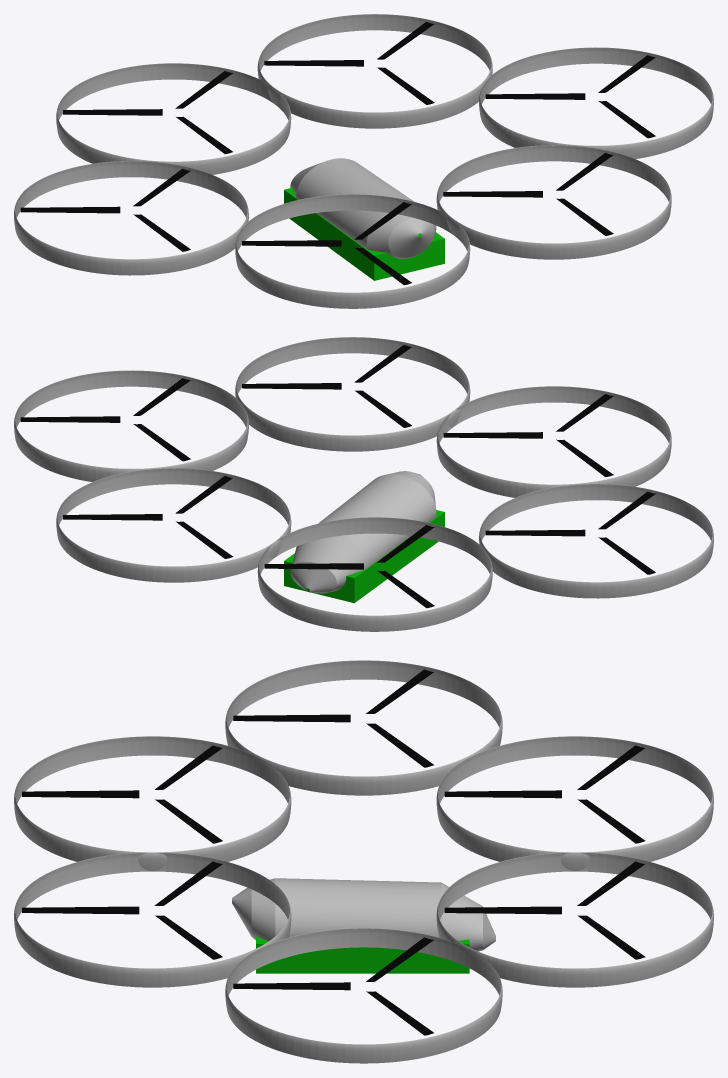
File: Hexacopter.gltf
The picture shows the model from 3 angles, top to bottom: view 1: azimuth 30°, elevation 25°; view 2: azimuth 150°, elevation 25°; view 3: azimuth 270°, elevation 25°; orthographic projection. The views are drawn at different scales.
Visible parts, largest first — view 1: Renderer Node; view 2: Renderer Node; view 3: Renderer Node.
Boxes of the visible parts, bbox=[...] form: Renderer Node: bbox=[14, 14, 713, 308]; Renderer Node: bbox=[14, 337, 713, 631]; Renderer Node: bbox=[14, 660, 713, 1063].
Size of the model in its own units: 17.25 by 2.18 by 13.25.
